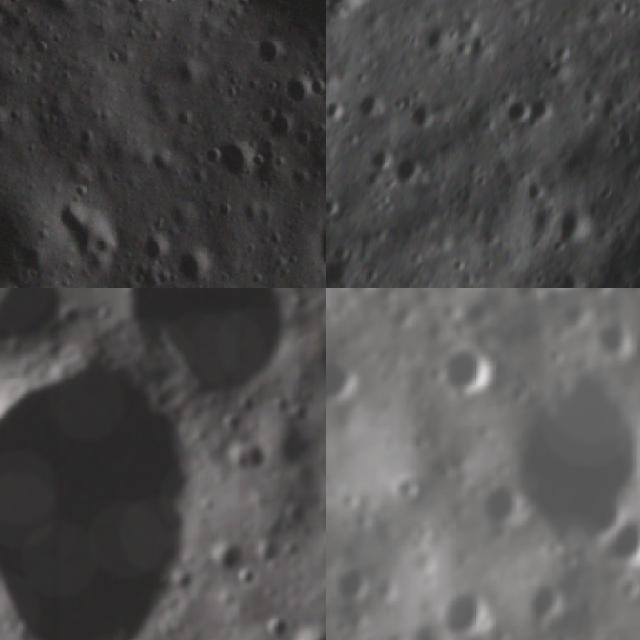crater: (0, 344, 209, 640), (520, 365, 640, 544), (144, 288, 312, 391), (45, 200, 122, 263), (482, 81, 548, 147), (439, 337, 502, 400), (429, 581, 495, 640), (464, 471, 529, 528), (378, 141, 438, 201), (0, 288, 63, 345), (342, 84, 402, 143), (393, 90, 446, 144), (522, 572, 576, 624), (596, 513, 640, 573), (327, 561, 380, 605), (326, 346, 367, 401), (222, 437, 274, 477), (214, 136, 256, 184), (379, 466, 428, 507), (177, 244, 217, 284), (250, 531, 286, 572), (168, 55, 205, 94), (255, 32, 289, 74), (138, 228, 174, 267), (265, 107, 301, 144), (281, 70, 316, 108), (210, 541, 247, 576), (228, 564, 263, 596), (284, 615, 326, 640), (254, 615, 296, 640), (29, 36, 60, 66), (33, 0, 76, 21), (148, 143, 176, 175), (168, 105, 198, 133), (203, 142, 227, 170), (255, 100, 279, 126), (632, 148, 640, 219), (215, 198, 237, 220), (578, 288, 623, 298), (0, 8, 12, 39), (124, 0, 153, 9)
